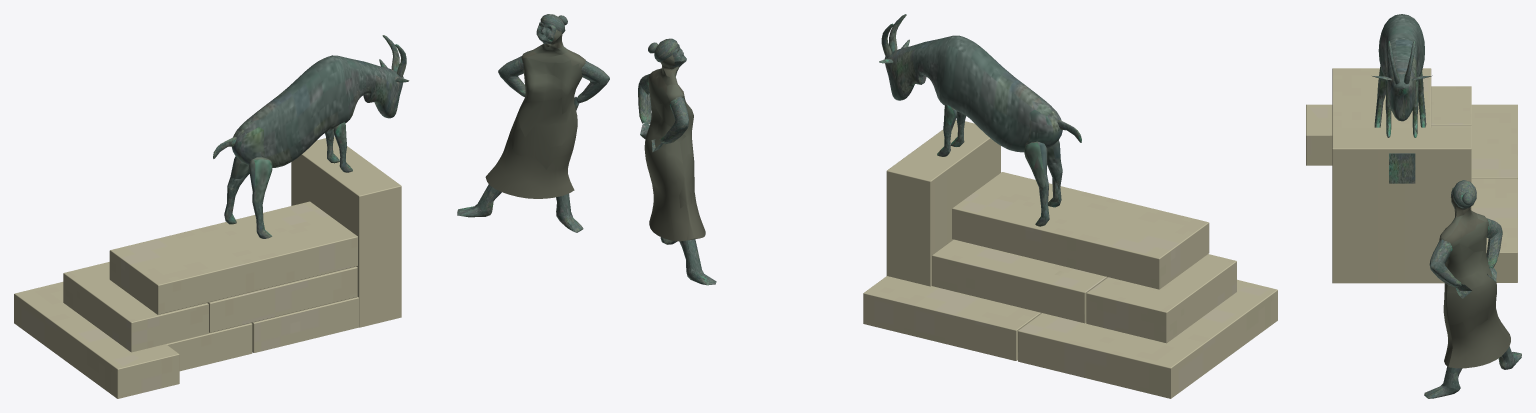
3 renders of one model, left to right at view 1: azimuth 30°, elevation 25°; view 2: azimuth 150°, elevation 25°; view 3: azimuth 270°, elevation 25°, orthographic. The views are drawn at different scales.
Parts seen in each view (by area): view 1: Stein, Bronze; view 2: Stein, Bronze; view 3: Stein, Bronze.
Boxes of the visible parts, box(x1,y1,x2,y2) form: Stein: box(14, 137, 401, 398); Bronze: box(213, 14, 609, 238); Stein: box(863, 120, 1277, 398); Bronze: box(638, 14, 1081, 285); Stein: box(1306, 68, 1517, 283); Bronze: box(1372, 14, 1521, 398).
Bounding box in the file's own units: 386 × 167 × 127.
2 materials, 2 textured.
